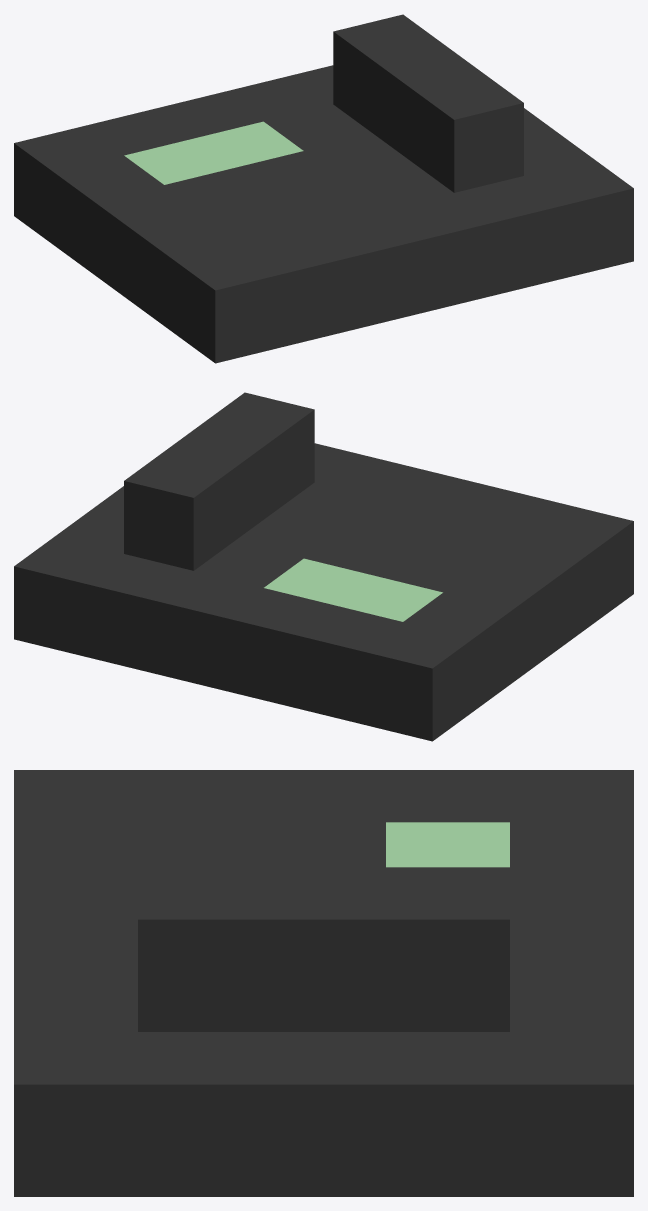
File: Office_Misc_Phone.gltf
3 renders of one model, top to bottom at view 1: azimuth 30°, elevation 25°; view 2: azimuth 150°, elevation 25°; view 3: azimuth 270°, elevation 25°, orthographic. The views are drawn at different scales.
Parts seen in each view (by area): view 1: Node; view 2: Node; view 3: Node.
Part boxes in pixels (x1=…): Node: x1=14, y1=14, x2=633, y2=363; Node: x1=14, y1=392, x2=633, y2=741; Node: x1=14, y1=770, x2=633, y2=1196.
Size of the model in its own units: 0.6 by 0.2 by 0.5.
1 material, 1 textured.
